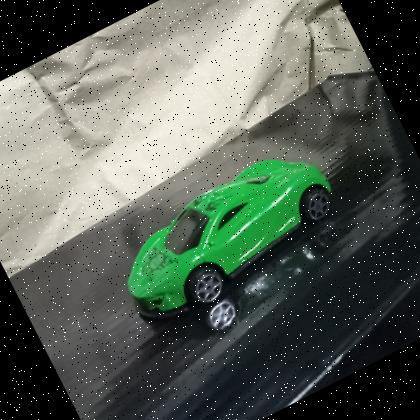Car: (95, 130, 362, 341)
